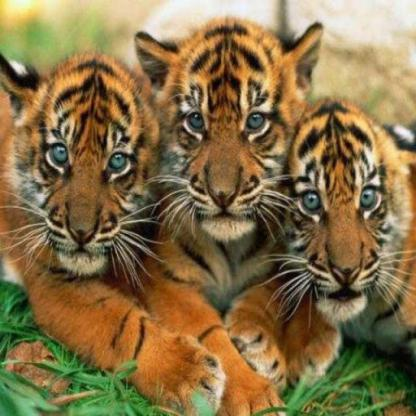Tiger: (138, 0, 306, 302), (0, 35, 151, 355), (276, 87, 415, 361)
